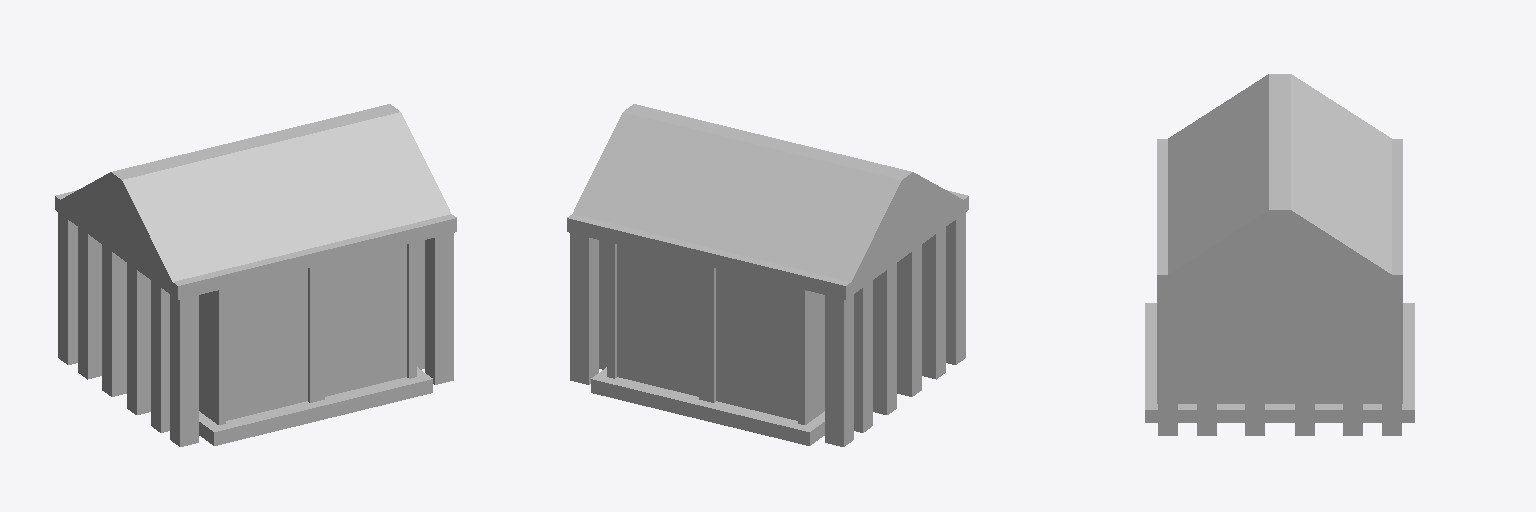
File: theathr.obj
The picture shows the model from 3 angles: view 1: azimuth 30°, elevation 25°; view 2: azimuth 150°, elevation 25°; view 3: azimuth 270°, elevation 25°; orthographic projection.
Bounding box in the file's own units: 6.47 × 5.05 × 5.44.